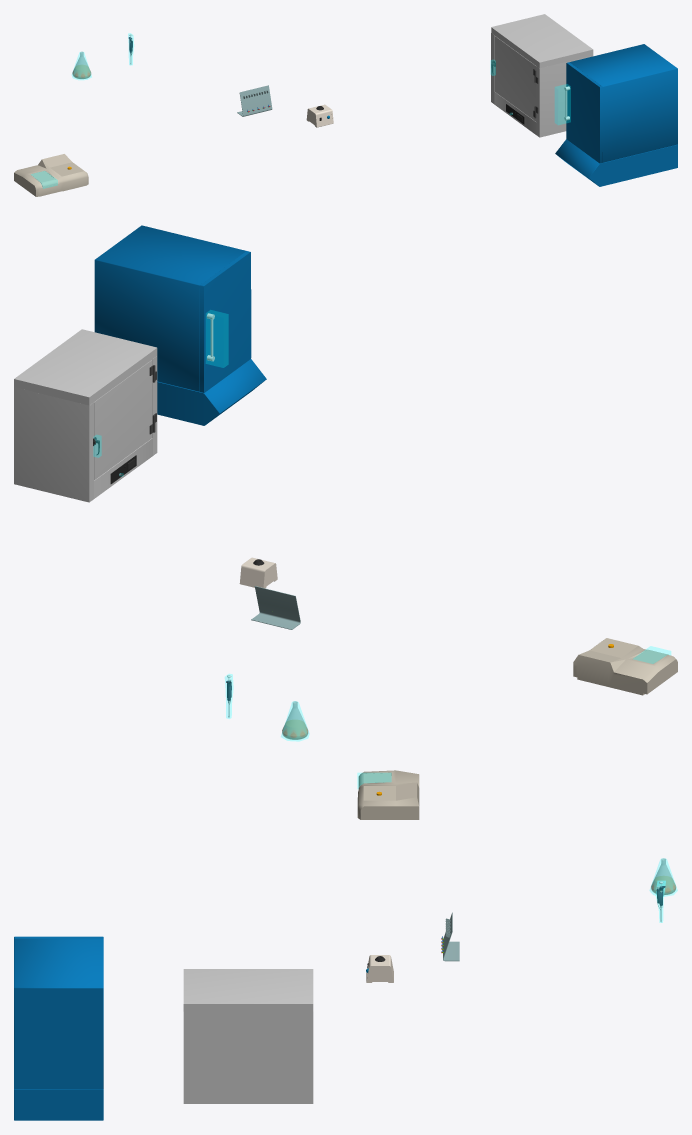
Rendered from labObjectsSet1.glb.
3 views of the same model, one above another, from view 1: azimuth 30°, elevation 25°; view 2: azimuth 150°, elevation 25°; view 3: azimuth 270°, elevation 25° (orthographic). The views are drawn at different scales.
Visible parts, largest first — view 1: mainCase (1), mainCase, door (1), door, mainSurface, standSurface, hitSurface (3), chassis, hitSurface, surface; view 2: mainCase (1), mainCase, door (1), door, mainSurface, standSurface, hitSurface (3), chassis; view 3: mainCase, mainCase (1), mainSurface, chassis, standSurface, hitSurface.
Part boxes in pixels (left/top/right/bottom): mainCase (1): left=555, top=44, right=677, bottom=186; mainCase: left=491, top=14, right=593, bottom=137; door (1): left=566, top=62, right=602, bottom=163; door: left=494, top=36, right=536, bottom=121; mainSurface: left=14, top=154, right=88, bottom=196; standSurface: left=237, top=85, right=272, bottom=116; hitSurface (3): left=555, top=84, right=570, bottom=124; chassis: left=306, top=104, right=333, bottom=127; hitSurface: left=72, top=52, right=91, bottom=79; surface: left=72, top=52, right=91, bottom=78; mainCase (1): left=94, top=225, right=266, bottom=425; mainCase: left=14, top=329, right=157, bottom=502; door (1): left=199, top=251, right=251, bottom=392; door: left=94, top=359, right=155, bottom=480; mainSurface: left=573, top=638, right=677, bottom=695; standSurface: left=251, top=586, right=300, bottom=629; hitSurface (3): left=206, top=310, right=228, bottom=367; chassis: left=239, top=557, right=277, bottom=588; mainCase: left=183, top=969, right=313, bottom=1103; mainCase (1): left=14, top=938, right=103, bottom=1120; mainSurface: left=357, top=770, right=419, bottom=819; chassis: left=366, top=955, right=393, bottom=982; standSurface: left=443, top=912, right=459, bottom=961; hitSurface: left=650, top=858, right=677, bottom=896.
Size of the model in its own units: 4.57 by 0.8547 by 3.84.
